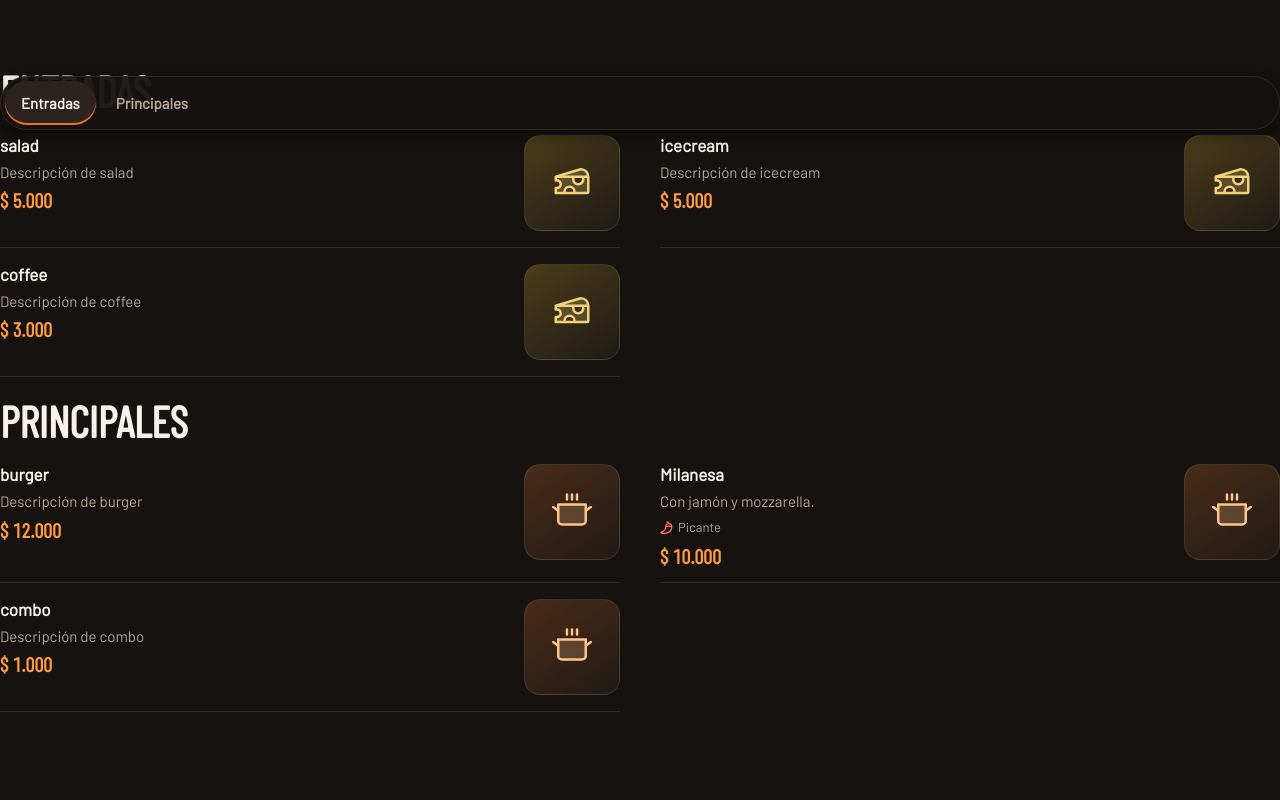
DishSheet: ficha del plato (RF2, RF6, RF14-RF20, RF34, RF43) › abrir y cerrar (RF14, RF43) › tocar la fila abre la ficha con nombre, descripción, etiquetas, opciones, cantidad y nota
(page scrolled)
Expected: the navigation bar is shown, [0,76,1279,130]
Click the button "Milanesa" at (692, 474), box [660,448,1279,582]
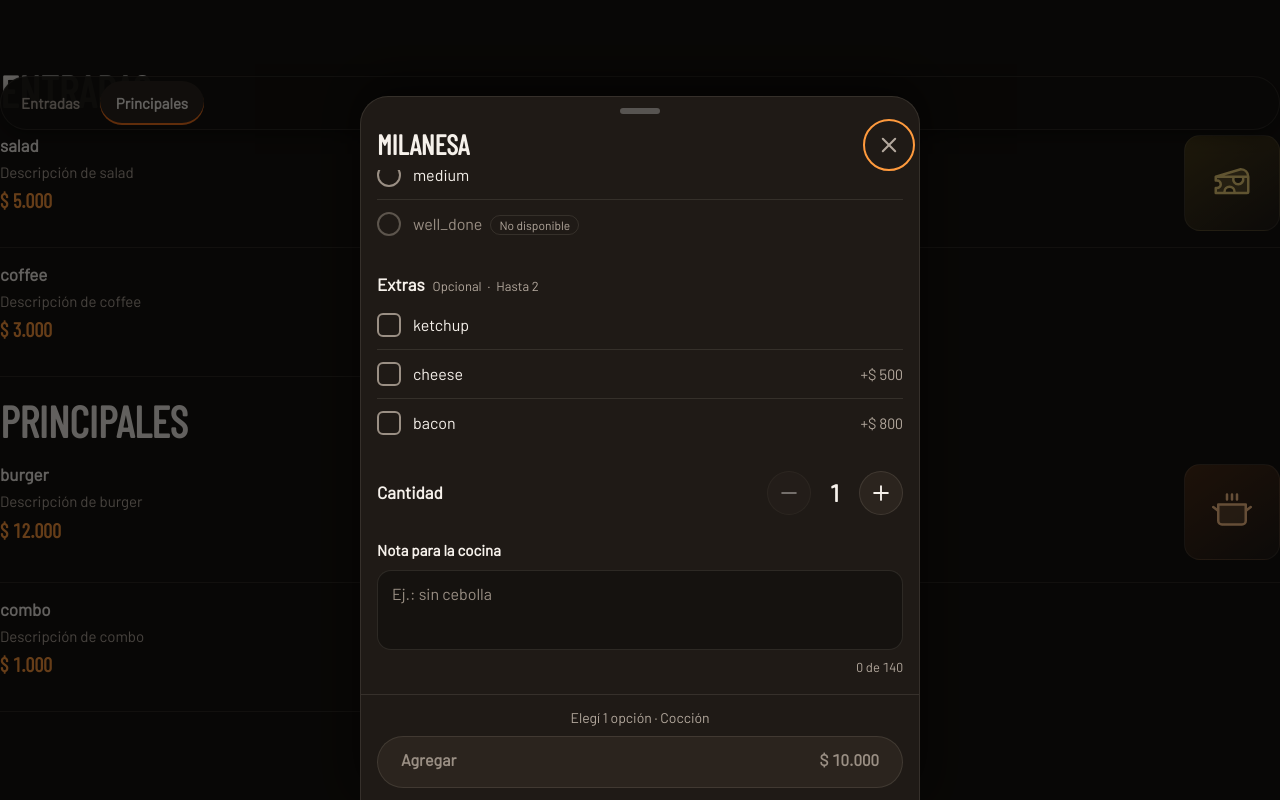
Expected: the heading "Milanesa" is shown, [377,127,469,161]
Expected: the element "Extras Opcional · Hasta 2 ketchup cheese +$ 500 bacon +$ 800" is shown, [377,272,903,447]
Expected: the element named "Cantidad" is shown, [767,471,903,515]
